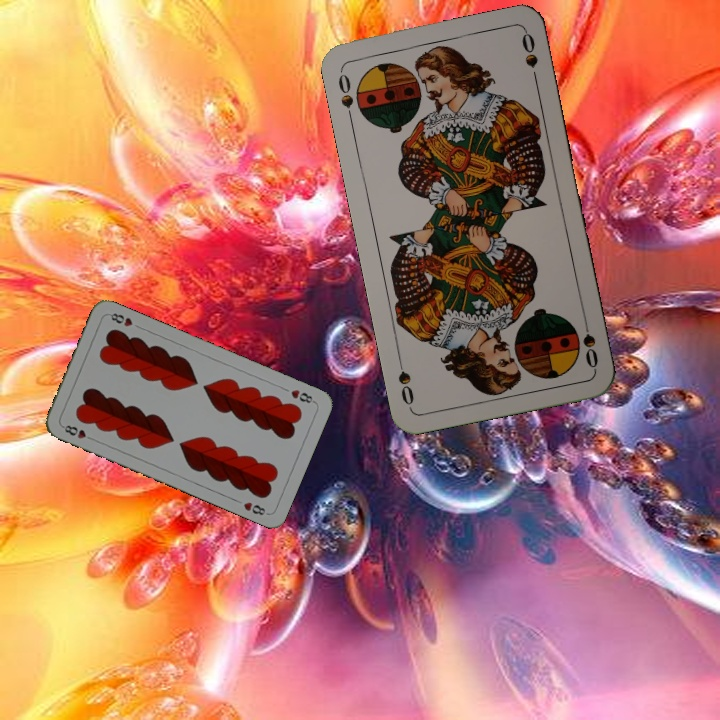H8: (58, 421, 97, 443), (287, 385, 318, 406)
SO: (578, 313, 601, 371), (334, 66, 356, 125)
